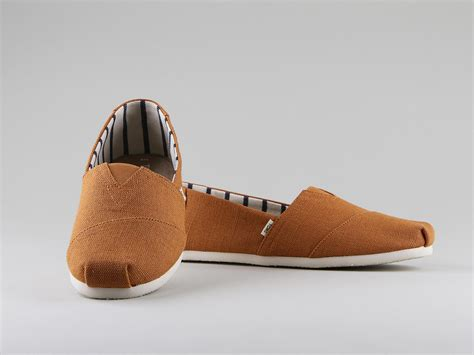nylon: (67, 98, 435, 287)
